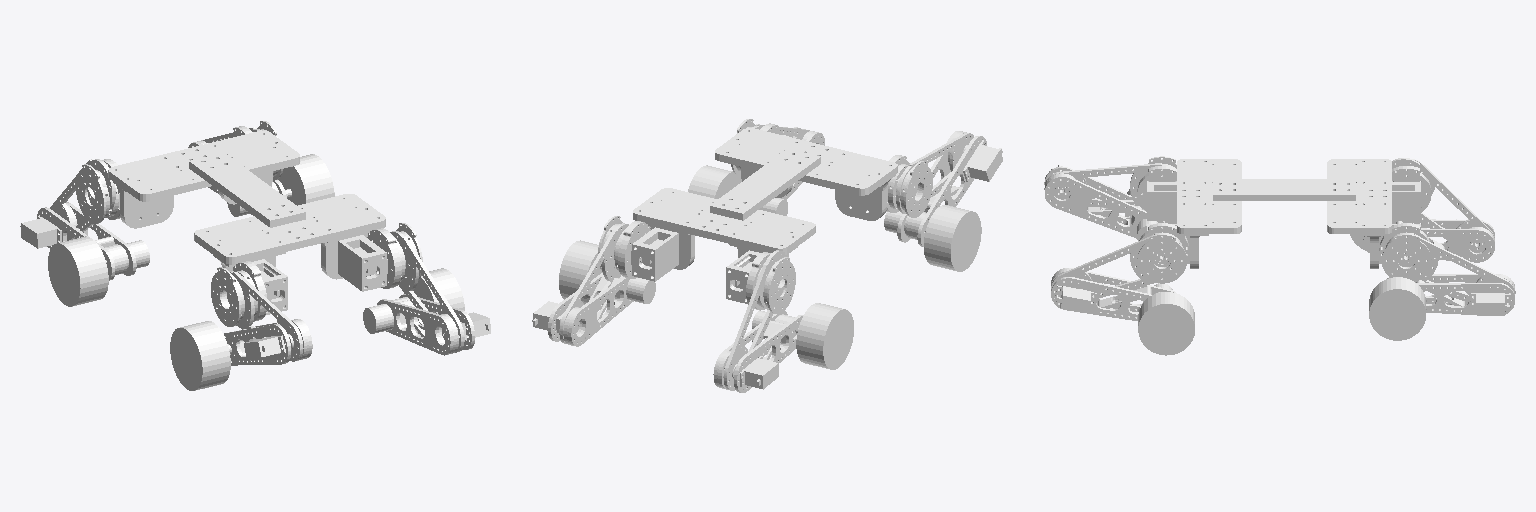
URDF robot description (一条狗2.SLDASM):
<?xml version="1.0" encoding="utf-8"?>
<!-- This URDF was automatically created by SolidWorks to URDF Exporter! Originally created by Stephen Brawner (brawner@gmail.com) 
     Commit Version: 1.6.0-4-g7f85cfe  Build Version: 1.6.7995.38578
     For more information, please see http://wiki.ros.org/sw_urdf_exporter -->
<robot
  name="一条狗2.SLDASM">
  <link
    name="shenti_link">
    <inertial>
      <origin
        xyz="-0.00025249 0.0005246 -0.035538"
        rpy="0 0 0" />
      <mass
        value="1.2599" />
      <inertia
        ixx="0.001002"
        ixy="4.1543E-11"
        ixz="-1.9503E-11"
        iyy="0.00216"
        iyz="-3.1703E-11"
        izz="0.0026988" />
    </inertial>
    <visual>
      <origin
        xyz="0 0 0"
        rpy="0 0 0" />
      <geometry>
        <mesh
          filename="package://一条狗2.SLDASM/meshes/shenti_link.STL" />
      </geometry>
      <material
        name="">
        <color
          rgba="1 1 1 1" />
      </material>
    </visual>
    <collision>
      <origin
        xyz="0 0 0"
        rpy="0 0 0" />
      <geometry>
        <mesh
          filename="package://一条狗2.SLDASM/meshes/shenti_link.STL" />
      </geometry>
    </collision>
  </link>
  <link
    name="zuoqiandatui_Link">
    <inertial>
      <origin
        xyz="0.00335217070301841 0.0469303898415219 0.0122168837736807"
        rpy="0 0 0" />
      <mass
        value="0.0505056144158122" />
      <inertia
        ixx="0.000135004349670867"
        ixy="-8.56879612297836E-06"
        ixz="-1.61606028931401E-09"
        iyy="1.56532608151023E-05"
        iyz="-2.26248440483744E-08"
        izz="0.000150392032383359" />
    </inertial>
    <visual>
      <origin
        xyz="0 0 0"
        rpy="0 0 0" />
      <geometry>
        <mesh
          filename="package://一条狗2.SLDASM/meshes/zuoqiandatui_Link.STL" />
      </geometry>
      <material
        name="">
        <color
          rgba="1 1 1 1" />
      </material>
    </visual>
    <collision>
      <origin
        xyz="0 0 0"
        rpy="0 0 0" />
      <geometry>
        <mesh
          filename="package://一条狗2.SLDASM/meshes/zuoqiandatui_Link.STL" />
      </geometry>
    </collision>
  </link>
  <joint
    name="zuoqiandatui_joint"
    type="revolute">
    <origin
      xyz="0.1043 0.17099 -0.05345"
      rpy="-1.5708 1.2157 -1.5708" />
    <parent
      link="shenti_link" />
    <child
      link="zuoqiandatui_Link" />
    <axis
      xyz="0 0 -1" />
    <limit
      lower="-3.14"
      upper="3.14"
      effort="0"
      velocity="0" />
  </joint>
  <link
    name="zuoqianxiaotui_Link">
    <inertial>
      <origin
        xyz="-0.00058722 0.073589 -0.0024208"
        rpy="0 0 0" />
      <mass
        value="0.16453" />
      <inertia
        ixx="0.00017626"
        ixy="-3.3589E-06"
        ixz="-1.3038E-13"
        iyy="4.136E-05"
        iyz="-2.251E-07"
        izz="0.00017716" />
    </inertial>
    <visual>
      <origin
        xyz="0 0 0"
        rpy="0 0 0" />
      <geometry>
        <mesh
          filename="package://一条狗2.SLDASM/meshes/zuoqianxiaotui_Link.STL" />
      </geometry>
      <material
        name="">
        <color
          rgba="1 1 1 1" />
      </material>
    </visual>
    <collision>
      <origin
        xyz="0 0 0"
        rpy="0 0 0" />
      <geometry>
        <mesh
          filename="package://一条狗2.SLDASM/meshes/zuoqianxiaotui_Link.STL" />
      </geometry>
    </collision>
  </link>
  <joint
    name="zuoqianxiaotui_joint"
    type="revolute">
    <origin
      xyz="0.0099746 0.13964 0.018"
      rpy="0 0 -2.8107" />
    <parent
      link="zuoqiandatui_Link" />
    <child
      link="zuoqianxiaotui_Link" />
    <axis
      xyz="0 0 1" />
    <limit
      lower="-3.14"
      upper="3.14"
      effort="0"
      velocity="0" />
  </joint>
  <link
    name="zuoqianlun_Link">
    <inertial>
      <origin
        xyz="-8.93719393206815E-05 6.74759675753228E-05 0.0199376558603583"
        rpy="0 0 0" />
      <mass
        value="0.201564584654321" />
      <inertia
        ixx="0.00010755486642454"
        ixy="-2.72293748193098E-23"
        ixz="2.07353499629694E-20"
        iyy="0.00010755486642454"
        iyz="-2.29805110770055E-21"
        izz="0.000160858088995815" />
    </inertial>
    <visual>
      <origin
        xyz="0 0 0"
        rpy="0 0 0" />
      <geometry>
        <mesh
          filename="package://一条狗2.SLDASM/meshes/zuoqianlun_Link.STL" />
      </geometry>
      <material
        name="">
        <color
          rgba="1 1 1 1" />
      </material>
    </visual>
    <collision>
      <origin
        xyz="0 0 0"
        rpy="0 0 0" />
      <geometry>
        <mesh
          filename="package://一条狗2.SLDASM/meshes/zuoqianlun_Link.STL" />
      </geometry>
    </collision>
  </link>
  <joint
    name="zuoqianlun_joint"
    type="revolute">
    <origin
      xyz="0 0.14011 0.0301"
      rpy="0 0 2.2175" />
    <parent
      link="zuoqianxiaotui_Link" />
    <child
      link="zuoqianlun_Link" />
    <axis
      xyz="0 0 1" />
    <limit
      lower="-3.14"
      upper="3.14"
      effort="0"
      velocity="0" />
  </joint>
  <link
    name="zuohoudatui_Link">
    <inertial>
      <origin
        xyz="-0.0032337181171932 0.0452720536406126 0.0121361578353187"
        rpy="0 0 0" />
      <mass
        value="0.0496181144911731" />
      <inertia
        ixx="0.000134981193212384"
        ixy="8.56879612297775E-06"
        ixz="1.61606028900715E-09"
        iyy="1.56301043566183E-05"
        iyz="-2.2624844048142E-08"
        izz="0.000150348726510377" />
    </inertial>
    <visual>
      <origin
        xyz="0 0 0"
        rpy="0 0 0" />
      <geometry>
        <mesh
          filename="package://一条狗2.SLDASM/meshes/zuohoudatui_Link.STL" />
      </geometry>
      <material
        name="">
        <color
          rgba="1 1 1 1" />
      </material>
    </visual>
    <collision>
      <origin
        xyz="0 0 0"
        rpy="0 0 0" />
      <geometry>
        <mesh
          filename="package://一条狗2.SLDASM/meshes/zuohoudatui_Link.STL" />
      </geometry>
    </collision>
  </link>
  <joint
    name="zuohoudatui_joint"
    type="revolute">
    <origin
      xyz="-0.104300000000071 -0.170990000000138 -0.0534499999999838"
      rpy="-1.57079632679482 1.47558269853671 1.570796326795" />
    <parent
      link="shenti_link" />
    <child
      link="zuohoudatui_Link" />
    <axis
      xyz="0 0 -1" />
    <limit
      lower="-3.14"
      upper="3.14"
      effort="0"
      velocity="0" />
  </joint>
  <link
    name="zuohouxiaotui_Link">
    <inertial>
      <origin
        xyz="-0.036033 0.064166 0.0024208"
        rpy="0 0 0" />
      <mass
        value="0.16453" />
      <inertia
        ixx="0.0001401"
        ixy="5.9849E-05"
        ixz="-1.1178E-07"
        iyy="7.752E-05"
        iyz="1.9539E-07"
        izz="0.00017716" />
    </inertial>
    <visual>
      <origin
        xyz="0 0 0"
        rpy="0 0 0" />
      <geometry>
        <mesh
          filename="package://一条狗2.SLDASM/meshes/zuohouxiaotui_Link.STL" />
      </geometry>
      <material
        name="">
        <color
          rgba="1 1 1 1" />
      </material>
    </visual>
    <collision>
      <origin
        xyz="0 0 0"
        rpy="0 0 0" />
      <geometry>
        <mesh
          filename="package://一条狗2.SLDASM/meshes/zuohouxiaotui_Link.STL" />
      </geometry>
    </collision>
  </link>
  <joint
    name="zuohouxiaotui_joint"
    type="revolute">
    <origin
      xyz="-0.00997458699830334 0.139644217976347 0.0179999999999982"
      rpy="-3.14159265358979 0 1.04355821918803" />
    <parent
      link="zuohoudatui_Link" />
    <child
      link="zuohouxiaotui_Link" />
    <axis
      xyz="0 0 -1" />
    <limit
      lower="-3.14"
      upper="3.14"
      effort="0"
      velocity="0" />
  </joint>
  <link
    name="zuohoulun_Link">
    <inertial>
      <origin
        xyz="5.5608E-05 9.7201E-05 0.019938"
        rpy="0 0 0" />
      <mass
        value="0.20156" />
      <inertia
        ixx="0.00010755"
        ixy="2.256E-21"
        ixz="1.3497E-18"
        iyy="0.00010755"
        iyz="-2.1719E-20"
        izz="0.00016086" />
    </inertial>
    <visual>
      <origin
        xyz="0 0 0"
        rpy="0 0 0" />
      <geometry>
        <mesh
          filename="package://一条狗2.SLDASM/meshes/zuohoulun_Link.STL" />
      </geometry>
      <material
        name="">
        <color
          rgba="1 1 1 1" />
      </material>
    </visual>
    <collision>
      <origin
        xyz="0 0 0"
        rpy="0 0 0" />
      <geometry>
        <mesh
          filename="package://一条狗2.SLDASM/meshes/zuohoulun_Link.STL" />
      </geometry>
    </collision>
  </link>
  <joint
    name="zuohoulun_joint"
    type="revolute">
    <origin
      xyz="-0.0695761835940286 0.121616292715296 -0.030100000000266"
      rpy="3.14159265358979 0 0" />
    <parent
      link="zuohouxiaotui_Link" />
    <child
      link="zuohoulun_Link" />
    <axis
      xyz="0 0 1" />
    <limit
      lower="-3.14"
      upper="3.14"
      effort="0"
      velocity="0" />
  </joint>
  <link
    name="youhoudatui_Link">
    <inertial>
      <origin
        xyz="0.043864 -0.01166 0.012063"
        rpy="0 0 0" />
      <mass
        value="0.049618" />
      <inertia
        ixx="2.2976E-05"
        ixy="2.9936E-05"
        ixz="2.1921E-08"
        iyy="0.00012764"
        iyz="-5.8271E-09"
        izz="0.00015035" />
    </inertial>
    <visual>
      <origin
        xyz="0 0 0"
        rpy="0 0 0" />
      <geometry>
        <mesh
          filename="package://一条狗2.SLDASM/meshes/youhoudatui_Link.STL" />
      </geometry>
      <material
        name="">
        <color
          rgba="1 1 1 1" />
      </material>
    </visual>
    <collision>
      <origin
        xyz="0 0 0"
        rpy="0 0 0" />
      <geometry>
        <mesh
          filename="package://一条狗2.SLDASM/meshes/youhoudatui_Link.STL" />
      </geometry>
    </collision>
  </link>
  <joint
    name="youhoudatui_joint"
    type="revolute">
    <origin
      xyz="0.104299999999963 -0.170989999999968 -0.0534499999999928"
      rpy="-1.5707963267949 0.622451735865051 -1.57079632679486" />
    <parent
      link="shenti_link" />
    <child
      link="youhoudatui_Link" />
    <axis
      xyz="0 0 -1" />
    <limit
      lower="-3.14"
      upper="3.14"
      effort="0"
      velocity="0" />
  </joint>
  <link
    name="youhouxiaotui_Link">
    <inertial>
      <origin
        xyz="-0.0493991638059244 0.0545472534589083 -0.00242077072002839"
        rpy="0 0 0" />
      <mass
        value="0.164534071182814" />
      <inertia
        ixx="0.000111056697254311"
        ixy="6.74978473465933E-05"
        ixz="1.52431558648921E-07"
        iyy="0.000106565555337389"
        iyz="-1.65641380429485E-07"
        izz="0.000177162409831635" />
    </inertial>
    <visual>
      <origin
        xyz="0 0 0"
        rpy="0 0 0" />
      <geometry>
        <mesh
          filename="package://一条狗2.SLDASM/meshes/youhouxiaotui_Link.STL" />
      </geometry>
      <material
        name="">
        <color
          rgba="1 1 1 1" />
      </material>
    </visual>
    <collision>
      <origin
        xyz="0 0 0"
        rpy="0 0 0" />
      <geometry>
        <mesh
          filename="package://一条狗2.SLDASM/meshes/youhouxiaotui_Link.STL" />
      </geometry>
    </collision>
  </link>
  <joint
    name="youhouxiaotui_joint"
    type="revolute">
    <origin
      xyz="0.1353 -0.035966 0.016"
      rpy="0 0 0" />
    <parent
      link="youhoudatui_Link" />
    <child
      link="youhouxiaotui_Link" />
    <axis
      xyz="0 0 1" />
    <limit
      lower="-3.14"
      upper="3.14"
      effort="0"
      velocity="0" />
  </joint>
  <link
    name="youhoulun_Link">
    <inertial>
      <origin
        xyz="-7.5831E-05 8.2402E-05 0.019938"
        rpy="0 0 0" />
      <mass
        value="0.20156" />
      <inertia
        ixx="0.00010755"
        ixy="8.4033E-21"
        ixz="-3.3302E-21"
        iyy="0.00010755"
        iyz="-2.3037E-20"
        izz="0.00016086" />
    </inertial>
    <visual>
      <origin
        xyz="0 0 0"
        rpy="0 0 0" />
      <geometry>
        <mesh
          filename="package://一条狗2.SLDASM/meshes/youhoulun_Link.STL" />
      </geometry>
      <material
        name="">
        <color
          rgba="1 1 1 1" />
      </material>
    </visual>
    <collision>
      <origin
        xyz="0 0 0"
        rpy="0 0 0" />
      <geometry>
        <mesh
          filename="package://一条狗2.SLDASM/meshes/youhoulun_Link.STL" />
      </geometry>
    </collision>
  </link>
  <joint
    name="youhoulun_joint"
    type="revolute">
    <origin
      xyz="-0.0948777815163495 0.103099828087369 0.0301000000000001"
      rpy="0 0 -3.14159265358979" />
    <parent
      link="youhouxiaotui_Link" />
    <child
      link="youhoulun_Link" />
    <axis
      xyz="0 0 1" />
    <limit
      lower="-3.14"
      upper="3.14"
      effort="0"
      velocity="0" />
  </joint>
  <link
    name="youqiandatui_Link">
    <inertial>
      <origin
        xyz="0.013697 0.032255 0.0062751"
        rpy="0 0 0" />
      <mass
        value="0.049618" />
      <inertia
        ixx="0.00013084"
        ixy="-2.3455E-05"
        ixz="4.5019E-09"
        iyy="1.9768E-05"
        iyz="2.2231E-08"
        izz="0.00015035" />
    </inertial>
    <visual>
      <origin
        xyz="0 0 0"
        rpy="0 0 0" />
      <geometry>
        <mesh
          filename="package://一条狗2.SLDASM/meshes/youqiandatui_Link.STL" />
      </geometry>
      <material
        name="">
        <color
          rgba="1 1 1 1" />
      </material>
    </visual>
    <collision>
      <origin
        xyz="0 0 0"
        rpy="0 0 0" />
      <geometry>
        <mesh
          filename="package://一条狗2.SLDASM/meshes/youqiandatui_Link.STL" />
      </geometry>
    </collision>
  </link>
  <joint
    name="youqiandatui_joint"
    type="revolute">
    <origin
      xyz="-0.1043 0.17099 -0.05345"
      rpy="-1.5708 -0.62245 1.5708" />
    <parent
      link="shenti_link" />
    <child
      link="youqiandatui_Link" />
    <axis
      xyz="0 0 -1" />
    <limit
      lower="-3.14"
      upper="3.14"
      effort="0"
      velocity="0" />
  </joint>
  <link
    name="youqianxioatui_Link">
    <inertial>
      <origin
        xyz="-0.058263 0.044956 0.0024208"
        rpy="0 0 0" />
      <mass
        value="0.16453" />
      <inertia
        ixx="9.6009E-05"
        ixy="6.6311E-05"
        ixz="-1.7712E-07"
        iyy="0.00012161"
        iyz="1.3893E-07"
        izz="0.00017716" />
    </inertial>
    <visual>
      <origin
        xyz="0 0 0"
        rpy="0 0 0" />
      <geometry>
        <mesh
          filename="package://一条狗2.SLDASM/meshes/youqianxioatui_Link.STL" />
      </geometry>
      <material
        name="">
        <color
          rgba="1 1 1 1" />
      </material>
    </visual>
    <collision>
      <origin
        xyz="0 0 0"
        rpy="0 0 0" />
      <geometry>
        <mesh
          filename="package://一条狗2.SLDASM/meshes/youqianxioatui_Link.STL" />
      </geometry>
    </collision>
  </link>
  <joint
    name="youqianxiaotui_joint"
    type="revolute">
    <origin
      xyz="0.032728 0.12433 0.0099"
      rpy="-3.1416 0 0" />
    <parent
      link="youqiandatui_Link" />
    <child
      link="youqianxioatui_Link" />
    <axis
      xyz="0 0 -1" />
    <limit
      lower="-3.14"
      upper="3.14"
      effort="0"
      velocity="0" />
  </joint>
  <link
    name="youqianlun_Link">
    <inertial>
      <origin
        xyz="-8.81105562564599E-05 -6.91149751074413E-05 0.0199376558604239"
        rpy="0 0 0" />
      <mass
        value="0.201564584654321" />
      <inertia
        ixx="0.00010755486642454"
        ixy="-3.84547488752515E-21"
        ixz="-1.92583139943705E-19"
        iyy="0.00010755486642454"
        iyz="9.74087828966412E-20"
        izz="0.000160858088995815" />
    </inertial>
    <visual>
      <origin
        xyz="0 0 0"
        rpy="0 0 0" />
      <geometry>
        <mesh
          filename="package://一条狗2.SLDASM/meshes/youqianlun_Link.STL" />
      </geometry>
      <material
        name="">
        <color
          rgba="1 1 1 1" />
      </material>
    </visual>
    <collision>
      <origin
        xyz="0 0 0"
        rpy="0 0 0" />
      <geometry>
        <mesh
          filename="package://一条狗2.SLDASM/meshes/youqianlun_Link.STL" />
      </geometry>
    </collision>
  </link>
  <joint
    name="youqianlun_joint"
    type="revolute">
    <origin
      xyz="-0.1102423340241 0.0864754055572288 -0.0300999999999992"
      rpy="-3.14159265358979 0 -3.14159265358979" />
    <parent
      link="youqianxioatui_Link" />
    <child
      link="youqianlun_Link" />
    <axis
      xyz="0 0 1" />
    <limit
      lower="-3.14"
      upper="3.14"
      effort="0"
      velocity="0" />
  </joint>
</robot>

--- Facts derived from the render (not from the file) ---
3 views of the same robot in one strip: view 1: azimuth 30°, elevation 25°; view 2: azimuth 150°, elevation 25°; view 3: azimuth 270°, elevation 25° (orthographic).
Robot: 一条狗2.SLDASM — 13 links, 12 joints (12 revolute); root link shenti_link; default pose: all joints at 0.
Links seen in each view (by area): view 1: shenti_link, youhouxiaotui_Link, youqianxioatui_Link, youqianlun_Link, zuohoulun_Link, zuohouxiaotui_Link, zuoqianlun_Link, youhoudatui_Link, zuohoudatui_Link, youqiandatui_Link, youhoulun_Link; view 2: shenti_link, zuoqianxiaotui_Link, zuohouxiaotui_Link, youqianxioatui_Link, zuohoulun_Link, youqianlun_Link, youqiandatui_Link, zuoqianlun_Link, zuoqiandatui_Link, zuohoudatui_Link, youhoulun_Link, youhouxiaotui_Link; view 3: shenti_link, zuohouxiaotui_Link, youhouxiaotui_Link, zuoqianxiaotui_Link, zuoqianlun_Link, youhoulun_Link, youqianxioatui_Link, youhoudatui_Link, zuoqiandatui_Link, youqiandatui_Link, zuohoudatui_Link.
Boxes of the visible links, <box> form: shenti_link: <box>76,121,422,326</box>; youhouxiaotui_Link: <box>363,294,490,355</box>; youqianxioatui_Link: <box>20,202,149,280</box>; youqianlun_Link: <box>48,236,108,306</box>; zuohoulun_Link: <box>170,321,230,390</box>; zuohouxiaotui_Link: <box>224,319,312,365</box>; zuoqianlun_Link: <box>278,154,334,205</box>; youhoudatui_Link: <box>390,231,464,352</box>; zuohoudatui_Link: <box>222,271,303,361</box>; youqiandatui_Link: <box>50,159,115,240</box>; youhoulun_Link: <box>404,268,464,333</box>; shenti_link: <box>598,119,932,313</box>; zuoqianxiaotui_Link: <box>532,273,655,346</box>; zuohouxiaotui_Link: <box>884,131,1002,246</box>; youqianxioatui_Link: <box>713,310,802,392</box>; zuohoulun_Link: <box>924,205,981,271</box>; youqianlun_Link: <box>796,303,853,369</box>; youqiandatui_Link: <box>723,250,786,390</box>; zuoqianlun_Link: <box>559,240,602,304</box>; zuoqiandatui_Link: <box>559,223,628,343</box>; zuohoudatui_Link: <box>896,133,973,213</box>; youhoulun_Link: <box>688,165,741,198</box>; youhouxiaotui_Link: <box>759,127,824,215</box>; shenti_link: <box>1137,156,1431,283</box>; zuohouxiaotui_Link: <box>1044,165,1167,240</box>; youhouxiaotui_Link: <box>1051,268,1175,320</box>; zuoqianxiaotui_Link: <box>1387,274,1515,315</box>; zuoqianlun_Link: <box>1369,277,1425,340</box>; youhoulun_Link: <box>1138,292,1194,355</box>; youqianxioatui_Link: <box>1363,219,1494,262</box>; youhoudatui_Link: <box>1051,235,1182,298</box>; zuoqiandatui_Link: <box>1386,236,1514,301</box>; youqiandatui_Link: <box>1392,158,1494,252</box>; zuohoudatui_Link: <box>1044,163,1173,208</box>.
Bounding box of the posed robot: 0.3848 × 0.6594 × 0.1715 m (x, y, z).
13 mesh visuals loaded from 13 distinct referenced files (13 binary STL).
